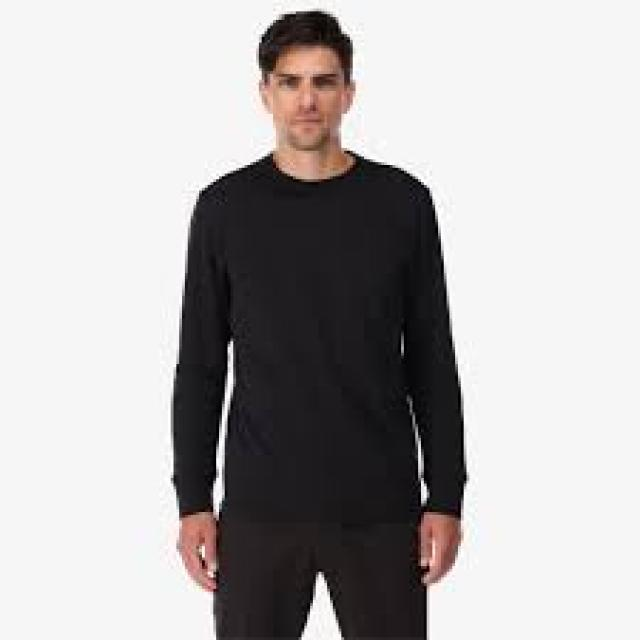plain: (166, 153, 466, 515)
